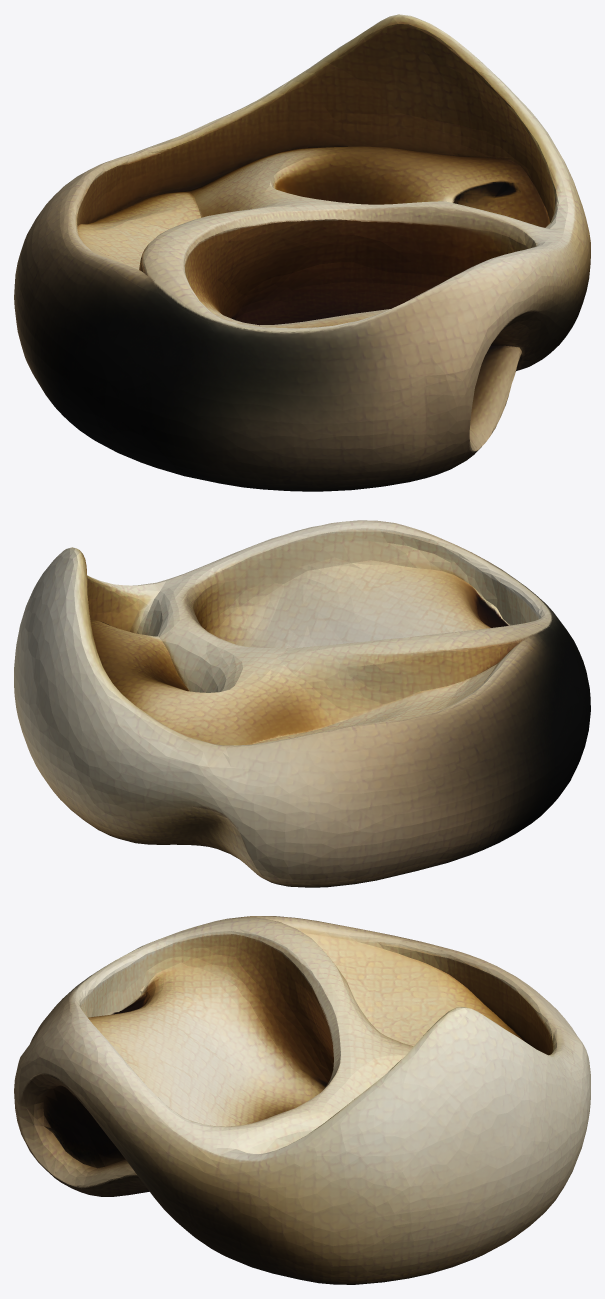
Rendered from cork-cable-organizer-organic hi-res.jpeg.glb.
3 views of the same model, one above another, from view 1: azimuth 30°, elevation 25°; view 2: azimuth 150°, elevation 25°; view 3: azimuth 270°, elevation 25° (orthographic). The views are drawn at different scales.
Visible parts, largest first — view 1: world; view 2: world; view 3: world.
Part boxes in pixels (bbox=[...]): world: bbox=[14, 14, 590, 491]; world: bbox=[14, 520, 590, 887]; world: bbox=[14, 916, 590, 1284].
Size of the model in its own units: 0.9979 by 0.4873 by 0.9959.
Materials: 1 (1 with a texture image).
